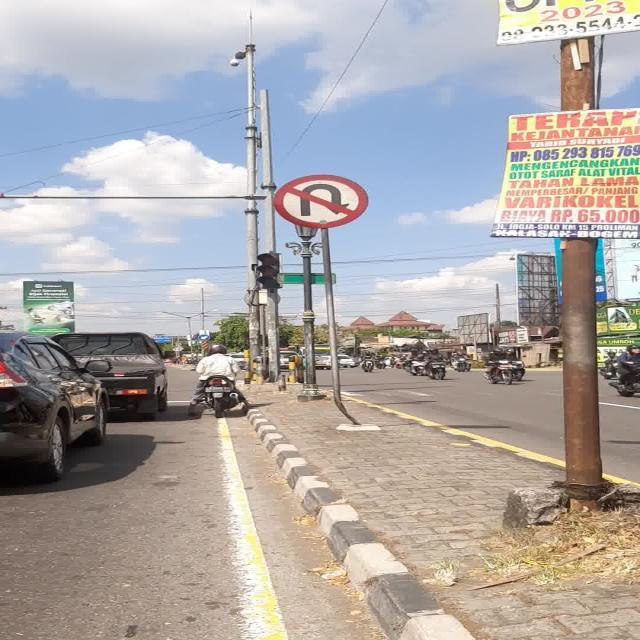Dilarang Putar Balik: (274, 174, 371, 228)
